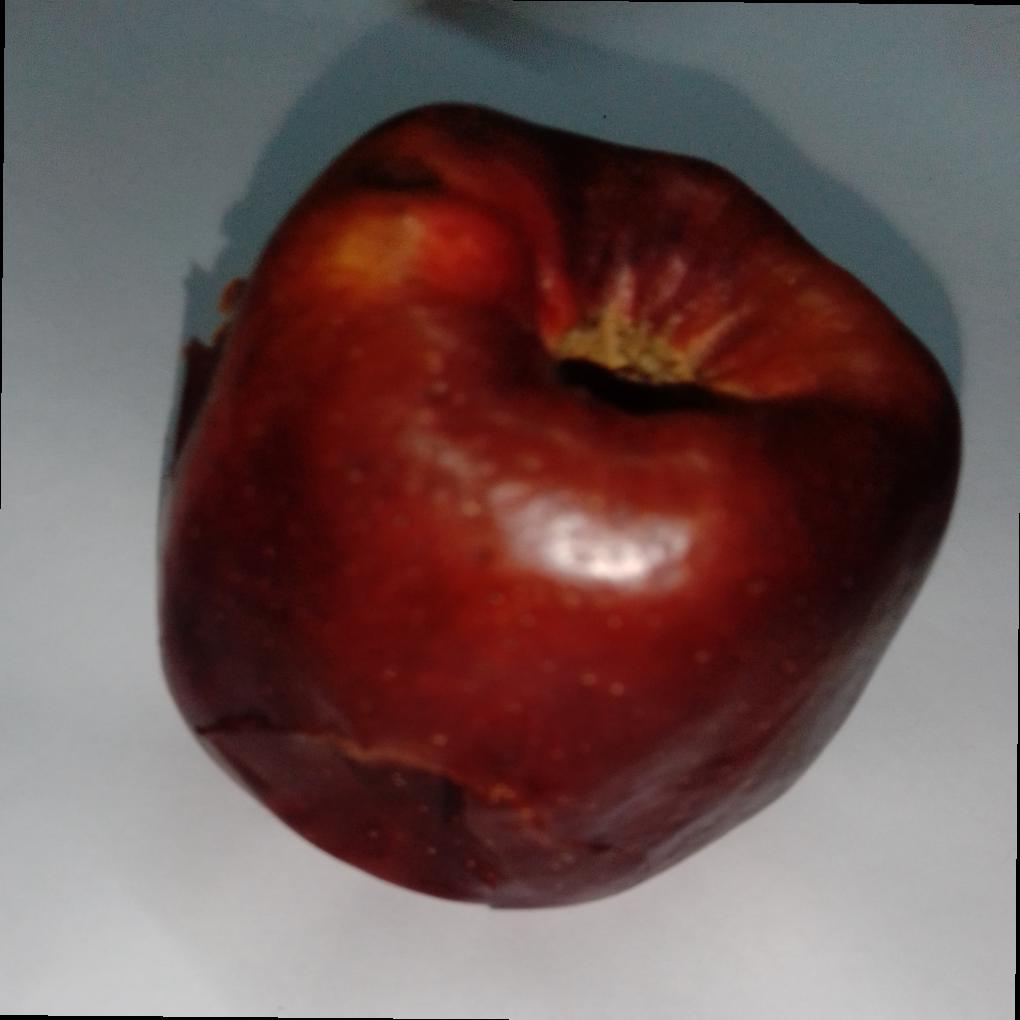FreshOrange: (155, 101, 963, 916)
